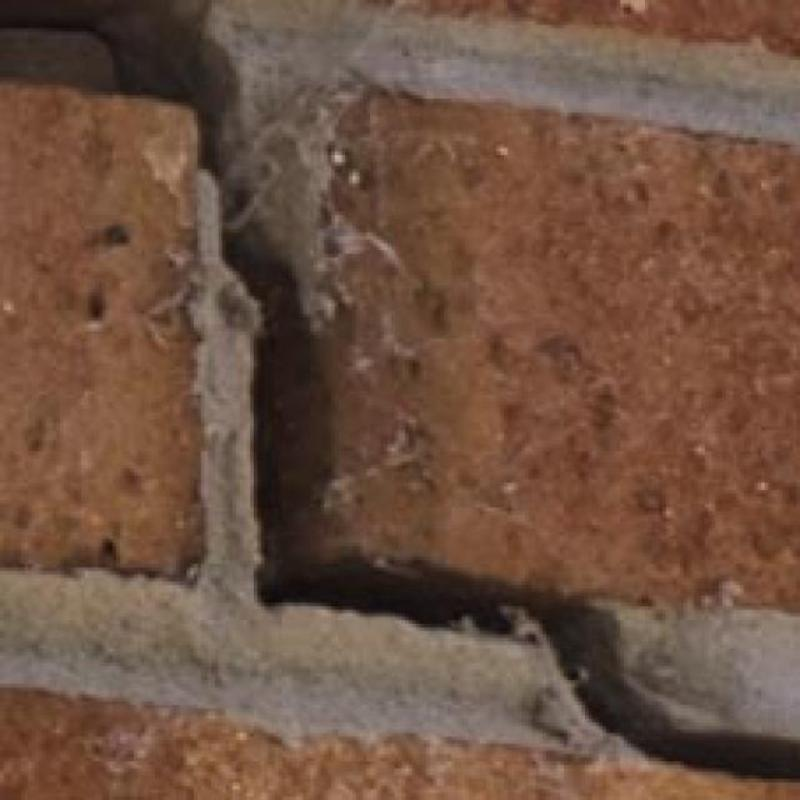crack: (0, 1, 799, 784)
